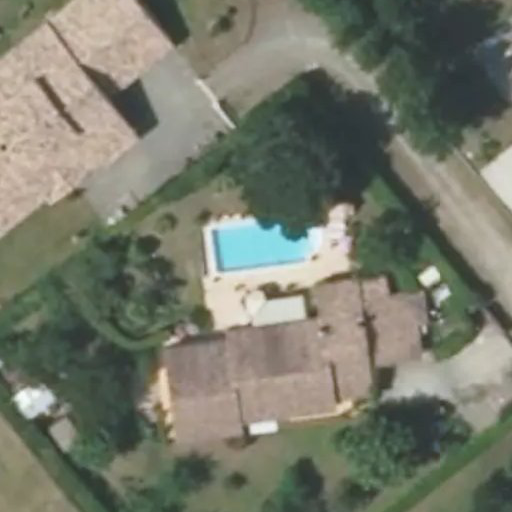pool: (206, 224, 305, 259)
